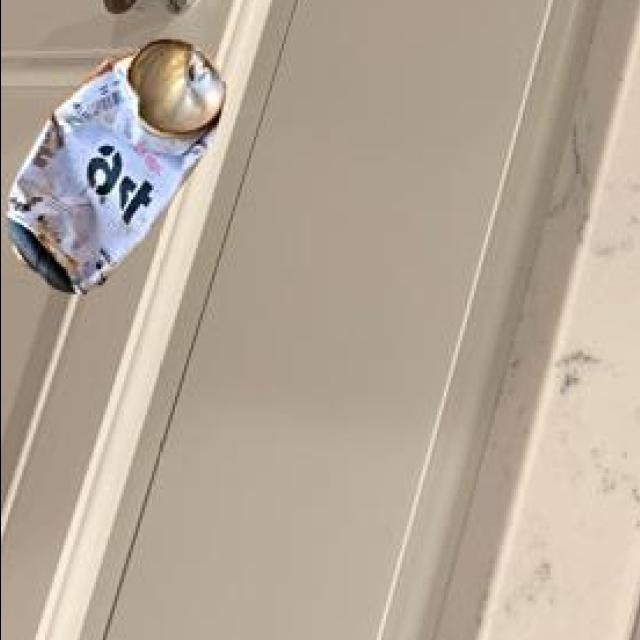logam: (10, 43, 228, 298)
